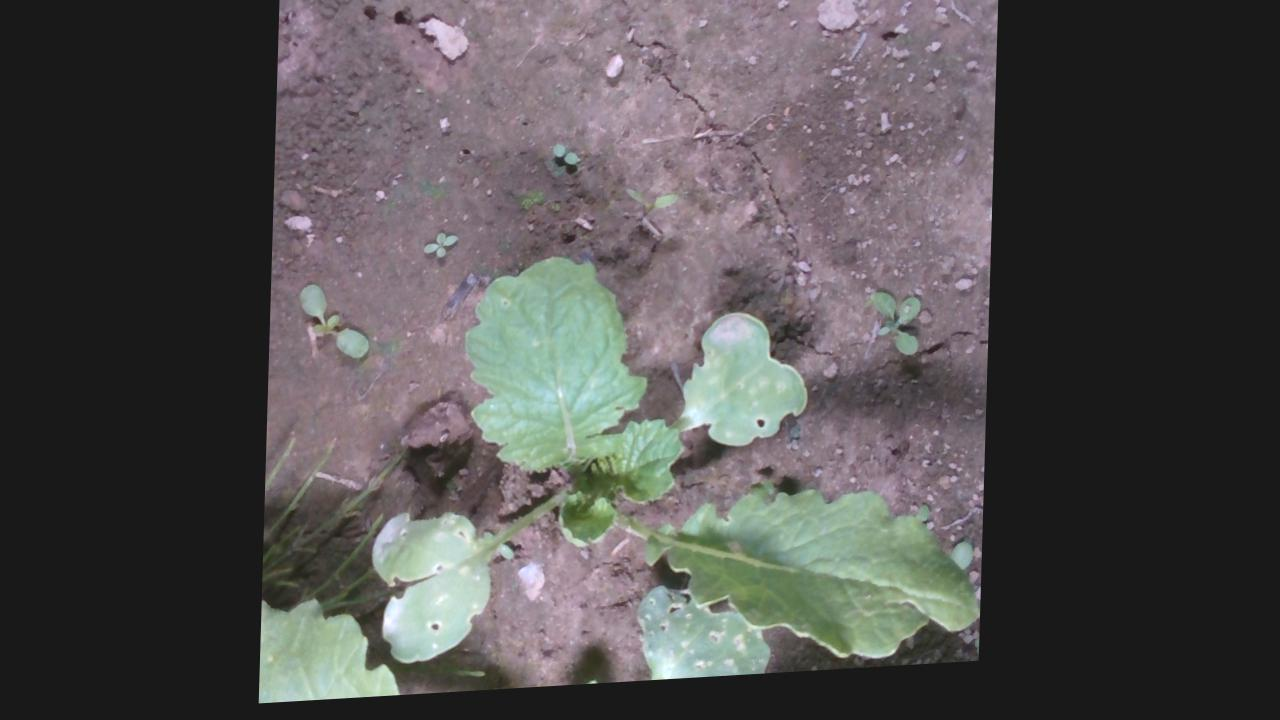weed: (296, 287, 374, 367), (867, 298, 927, 370), (623, 194, 680, 221), (422, 236, 459, 266), (551, 150, 582, 174)
